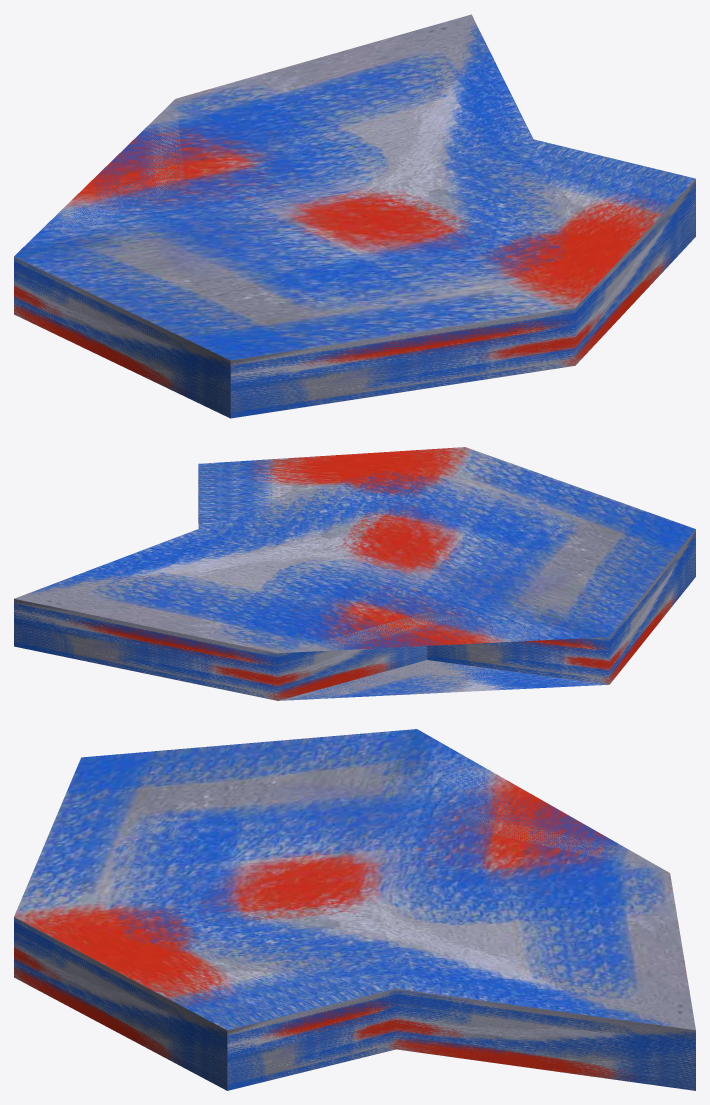
The model's file is Collectible1.FBX.
3 renders of one model, top to bottom at view 1: azimuth 30°, elevation 25°; view 2: azimuth 150°, elevation 25°; view 3: azimuth 270°, elevation 25°, orthographic. The views are drawn at different scales.
Parts seen in each view (by area): view 1: Box006; view 2: Box006; view 3: Box006.
Boxes of the visible parts, bbox=[...] form: Box006: bbox=[14, 14, 695, 418]; Box006: bbox=[14, 447, 695, 700]; Box006: bbox=[14, 729, 695, 1090].
Bounding box in the file's own units: 4.31 × 4.13 × 0.4048.
1 material, 1 textured.
